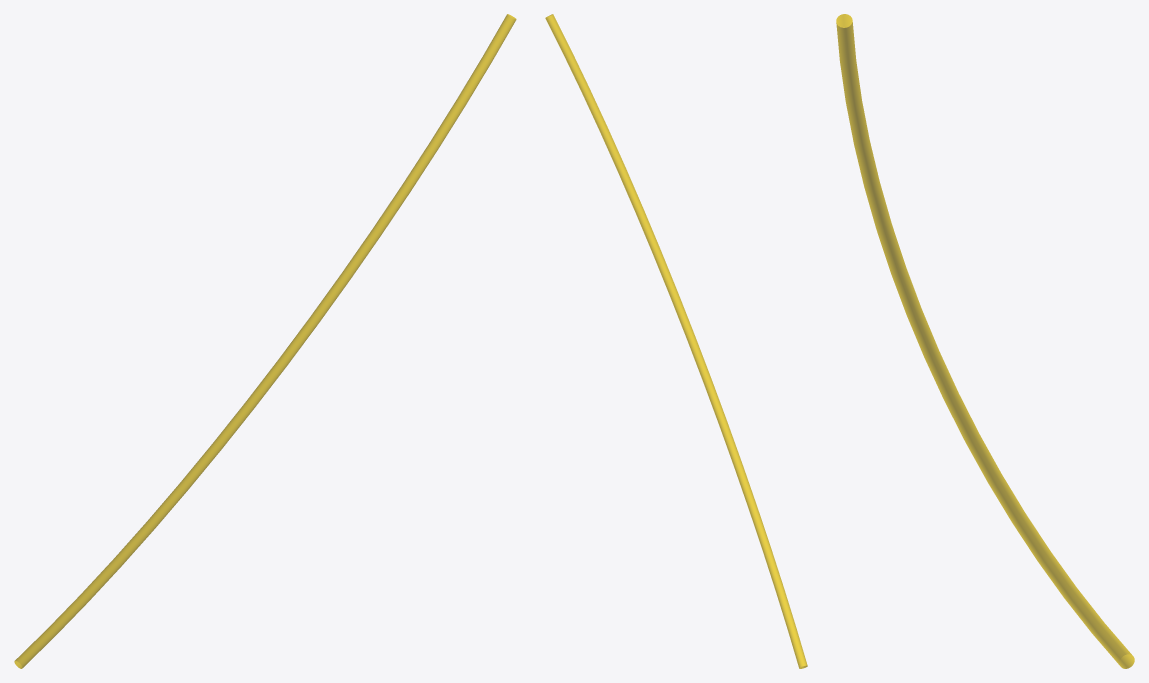
Rendered from Event_419990632_track_1.fbx.
3 views of the same model, side by side, from view 1: azimuth 30°, elevation 25°; view 2: azimuth 150°, elevation 25°; view 3: azimuth 270°, elevation 25° (orthographic). The views are drawn at different scales.
Visible parts, largest first — view 1: Model; view 2: Model; view 3: Model.
Part boxes in pixels (box(x1,y1,x2,y2)): Model: box(14, 14, 516, 668); Model: box(545, 14, 807, 668); Model: box(836, 14, 1134, 668).
Bounding box in the file's own units: 1.73 × 2.53 × 0.7257.
